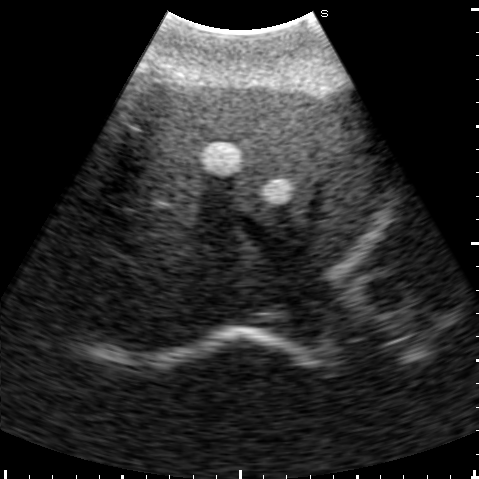S2: (312, 95, 374, 268)
S4: (121, 81, 323, 238)
S7: (60, 235, 216, 352)
S8: (94, 146, 264, 284)
Tumor: (198, 140, 242, 176), (259, 181, 290, 205)
